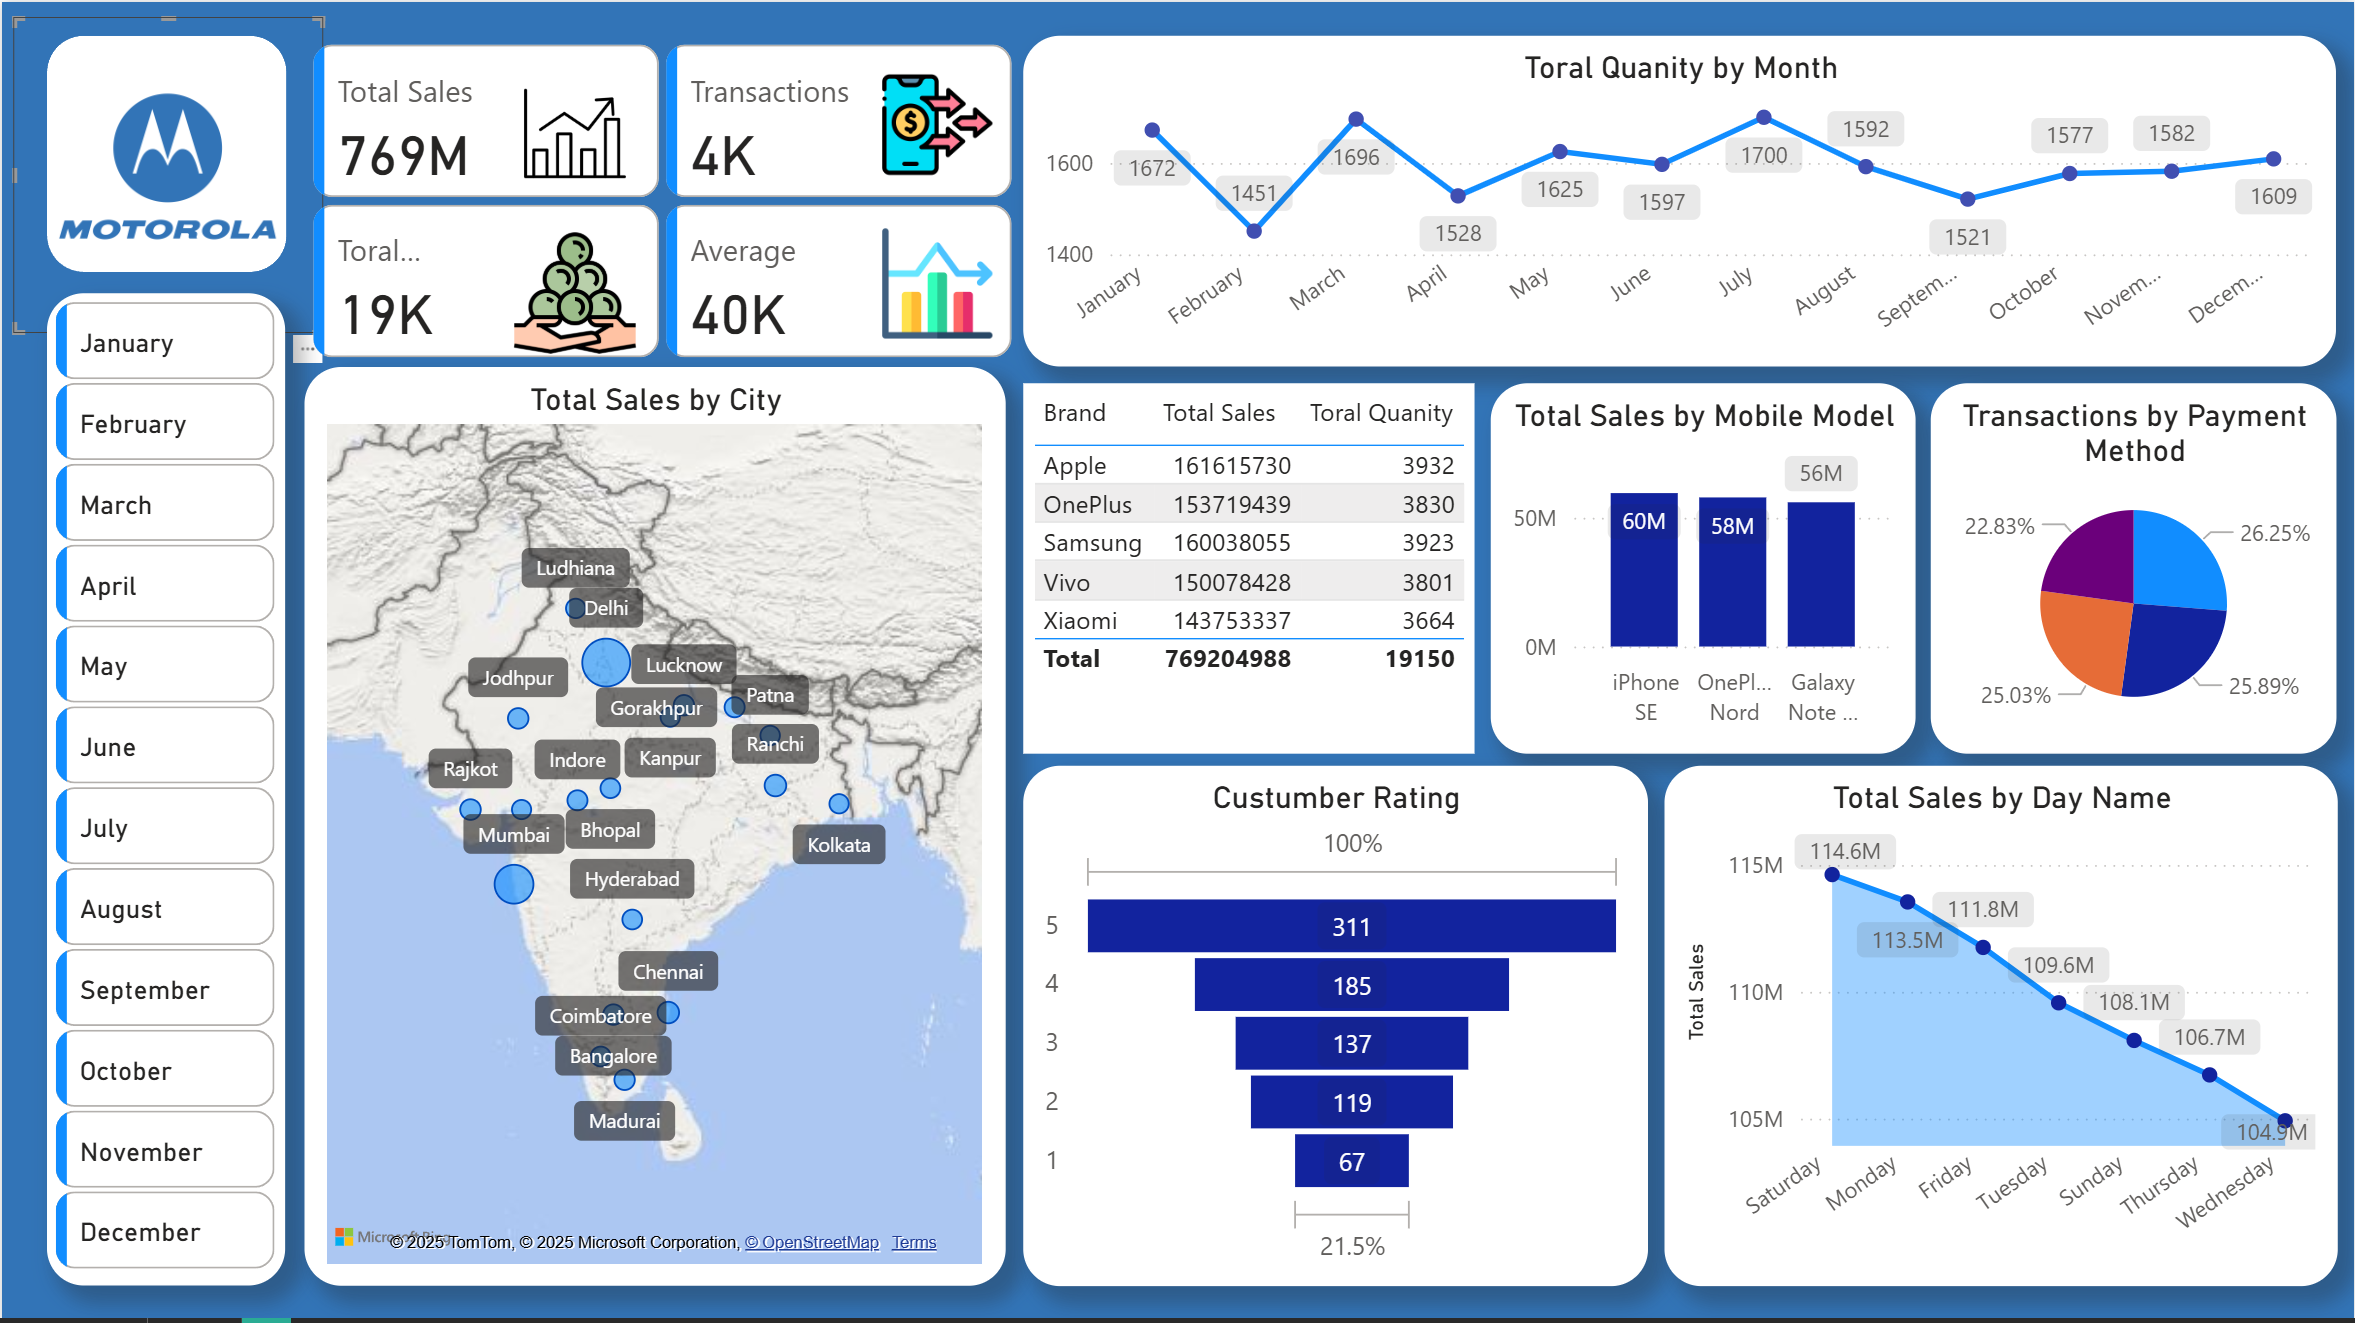

This screenshot's page, from the dashboard's own definition file:
{"tool":"powerbi","page":{"name":"Page 1","canvas":[1280,720],"ordinal":0},"visuals":[{"type":"shape","box":[24.8,18.6,130.3,128.6],"z":0},{"type":"image","box":[6.2,8,168.5,172],"z":1000},{"type":"shape","box":[24.8,158.7,129.5,540],"z":2000},{"type":"advancedSlicerVisual","fields":{"Values":["Sales_Data.Date.Variation.Date Hierarchy.Month"]},"box":[24.8,158.7,129.5,540],"z":3000},{"type":"cardVisual","fields":{"Data":["Sales_Data.Total Sales","Sales_Data.Transactions","Sales_Data.Toral Quanity","Sales_Data.Average"]},"box":[164.9,18.6,391,180],"z":4000},{"type":"map","fields":{"Category":["Sales_Data.City"],"Size":["Sales_Data.Total Sales"]},"box":[164.9,198.6,381.3,500.1],"z":5000},{"type":"lineChart","fields":{"Category":["Sales_Data.Date.Variation.Date Hierarchy.Month","Sales_Data.Date.Variation.Date Hierarchy.Day"],"Y":["Sales_Data.Toral Quanity"]},"box":[556,18.6,714.7,180],"z":6000},{"type":"clusteredColumnChart","fields":{"Category":["Sales_Data.Mobile Model"],"Y":["Sales_Data.Total Sales"]},"box":[810.4,207.5,231.4,201.3],"z":6001},{"type":"pieChart","fields":{"Y":["Sales_Data.Transactions"],"Category":["Sales_Data.Payment Method"]},"box":[1049.9,207.5,220.8,201.3],"z":6002},{"type":"funnel","title":"Custumber Rating","fields":{"Category":["Sales_Data.Customer Ratings"],"Y":["CountNonNull(Sales_Data.Customer Ratings)"]},"box":[556,415.9,339.6,282.9],"z":6003},{"type":"areaChart","fields":{"Category":["Sales_Data.Day Name"],"Y":["Sales_Data.Total Sales"]},"box":[904.4,415.9,366.2,282.9],"z":6004},{"type":"tableEx","fields":{"Values":["Sales_Data.Brand","Sales_Data.Total Sales","Sales_Data.Toral Quanity"]},"box":[556,207.5,245.6,201.3],"z":6005}]}

Visuals, with their boxes in screenshot pixels (x1, y1, x2, y2), scaled from the page's 1280x720 canvas onto the 2355x1323 screenshot:
shape: [46, 34, 285, 270]
image: [11, 15, 321, 331]
shape: [46, 292, 284, 1284]
advancedSlicerVisual - Sales_Data.Date.Variation.Date Hierarchy.Month: [46, 292, 284, 1284]
cardVisual - Sales_Data.Total Sales x Sales_Data.Transactions: [303, 34, 1023, 365]
map - Sales_Data.City x Sales_Data.Total Sales: [303, 365, 1005, 1284]
lineChart - Sales_Data.Date.Variation.Date Hierarchy.Month x Sales_Data.Date.Variation.Date Hierarchy.Day: [1023, 34, 2338, 365]
clusteredColumnChart - Sales_Data.Mobile Model x Sales_Data.Total Sales: [1491, 381, 1917, 751]
pieChart - Sales_Data.Transactions x Sales_Data.Payment Method: [1932, 381, 2338, 751]
"Custumber Rating" funnel: [1023, 764, 1648, 1284]
areaChart - Sales_Data.Day Name x Sales_Data.Total Sales: [1664, 764, 2338, 1284]
tableEx - Sales_Data.Brand x Sales_Data.Total Sales: [1023, 381, 1475, 751]
